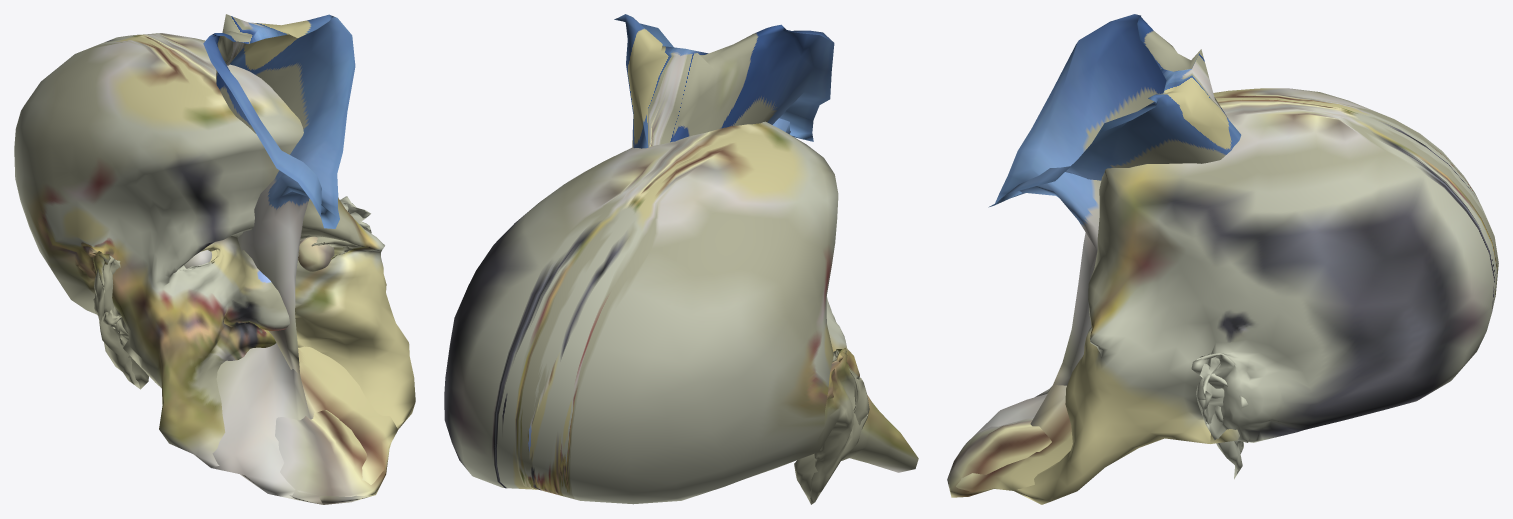
File: generated_head_4b42054e.obj
The picture shows the model from 3 angles, left to right: view 1: azimuth 30°, elevation 25°; view 2: azimuth 150°, elevation 25°; view 3: azimuth 270°, elevation 25°; orthographic projection. The views are drawn at different scales.
Size of the model in its own units: 0.4805 by 0.661 by 0.7441.
